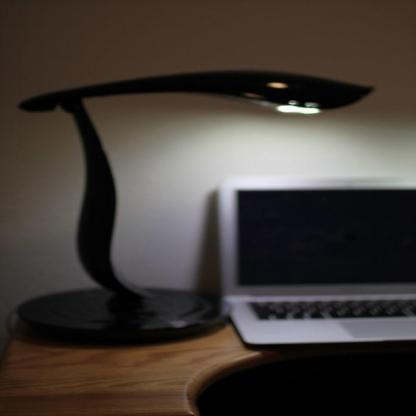board: (189, 180, 416, 364)
